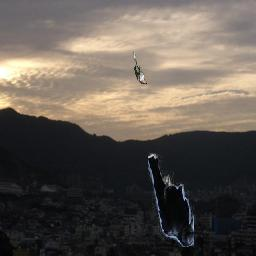Crow: (148, 153, 194, 248)
Cuckoo: (133, 50, 147, 84)
